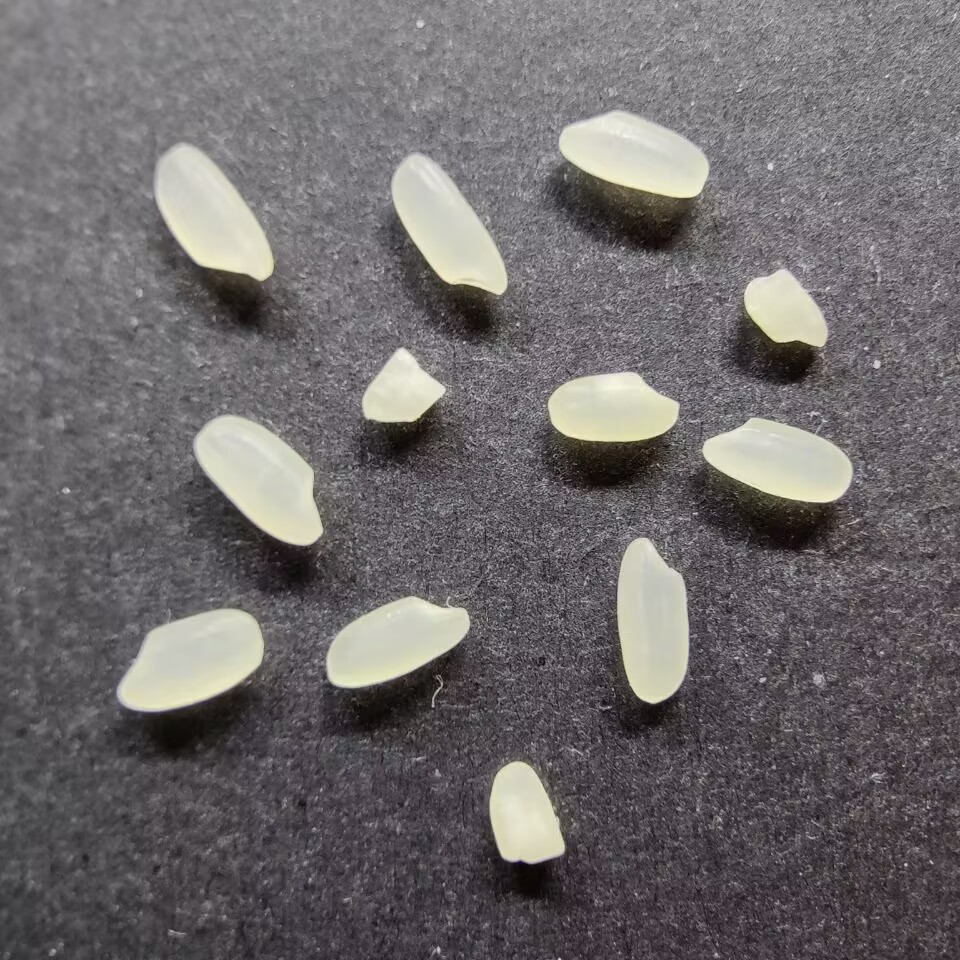broken: (487, 759, 567, 865), (742, 267, 830, 349), (361, 346, 449, 426)
rice: (192, 415, 325, 548), (389, 151, 510, 296), (151, 141, 273, 283), (115, 606, 265, 713), (324, 594, 471, 689), (556, 109, 710, 199), (700, 415, 853, 504), (614, 536, 691, 706), (546, 370, 681, 443)
